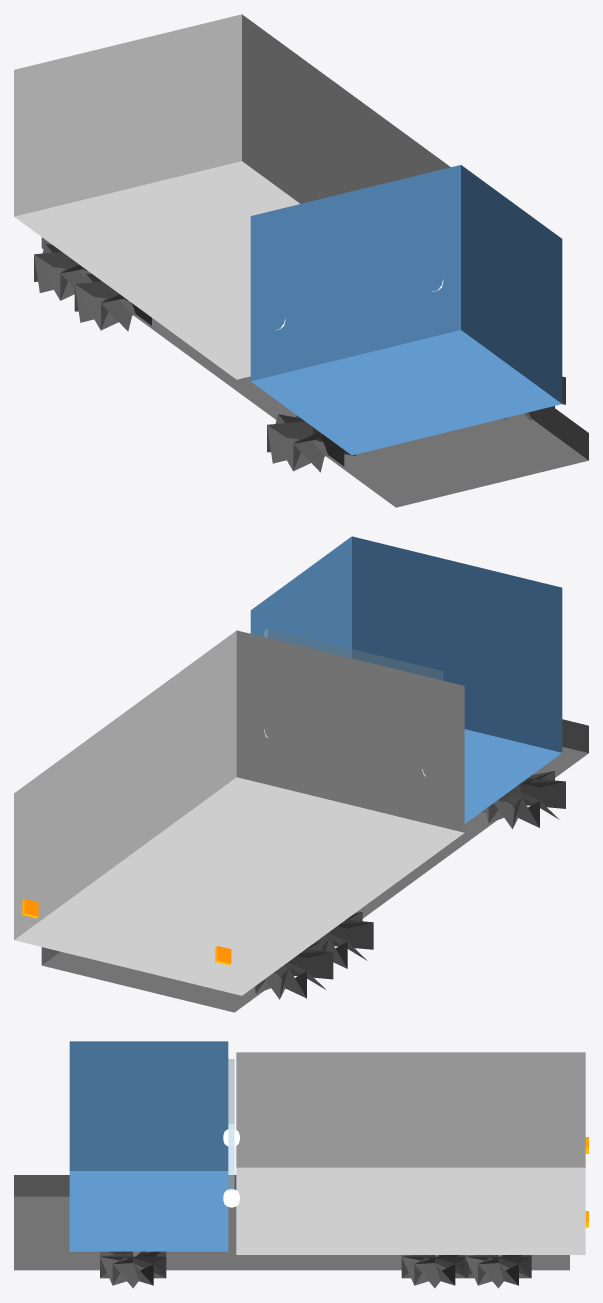
File: truck.glb
3 renders of one model, top to bottom at view 1: azimuth 30°, elevation 25°; view 2: azimuth 150°, elevation 25°; view 3: azimuth 270°, elevation 25°, orthographic. The views are drawn at different scales.
Visible parts, largest first — view 1: cargo, cabin, frame, wFL, wBL1, wBL2; view 2: cargo, cabin, frame, wFL, wBL2, windshield, wBL1; view 3: cargo, cabin, frame, wFR, wBR1, wBR2, windshield.
Part boxes in pixels (bbox=[...]): cargo: bbox=[14, 14, 450, 379]; cabin: bbox=[250, 165, 562, 455]; frame: bbox=[41, 237, 588, 507]; wFL: bbox=[267, 414, 355, 472]; wBL1: bbox=[74, 273, 151, 331]; wBL2: bbox=[34, 243, 92, 300]; cargo: bbox=[14, 630, 464, 995]; cabin: bbox=[250, 536, 562, 823]; frame: bbox=[41, 719, 588, 1012]; wFL: bbox=[481, 771, 565, 828]; wBL2: bbox=[254, 941, 333, 999]; windshield: bbox=[264, 628, 443, 680]; wBL1: bbox=[315, 911, 373, 968]; cargo: bbox=[236, 1052, 585, 1254]; cabin: bbox=[69, 1041, 228, 1251]; frame: bbox=[14, 1175, 569, 1270]; wFR: bbox=[100, 1251, 166, 1288]; wBR1: bbox=[401, 1255, 467, 1287]; wBR2: bbox=[465, 1255, 531, 1288]; windshield: bbox=[228, 1059, 234, 1190].
Size of the model in its own units: 1.64 by 1.06 by 3.62.
